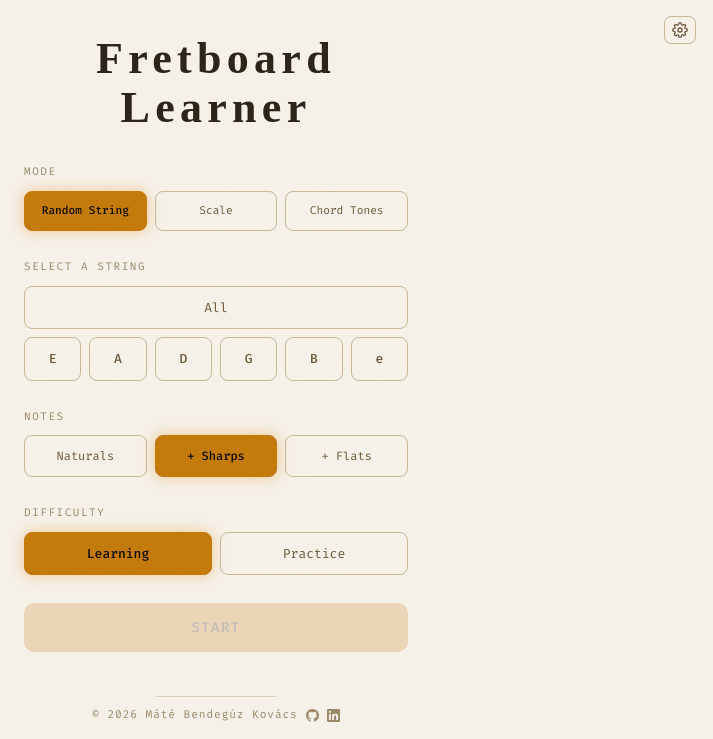
Test: GameScreen — mic permission denied (NotAllowedError) › shows MicPermissionPrompt with the denied message
Click the button "A": [118, 359] box [89,337,147,381]
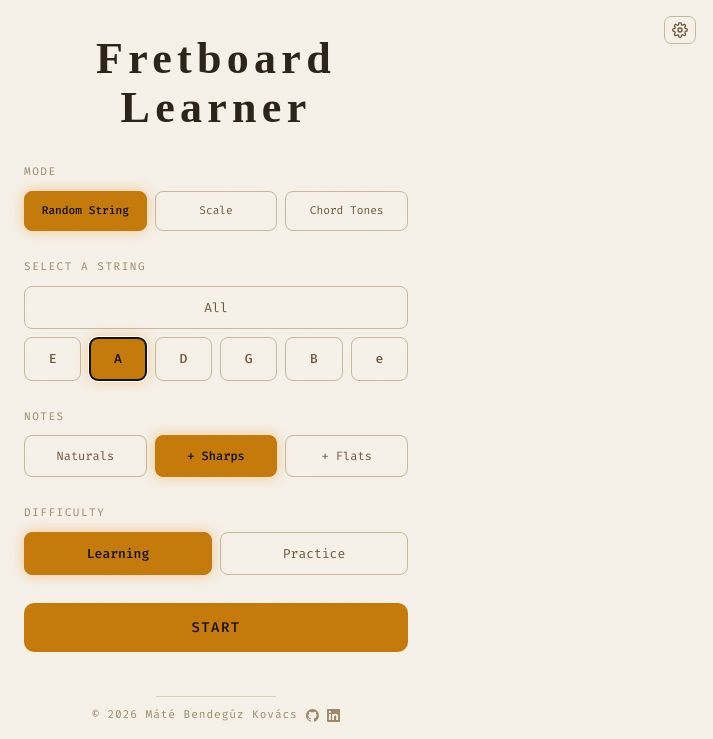
Click the button "Start": [216, 628] box [24,603,408,652]
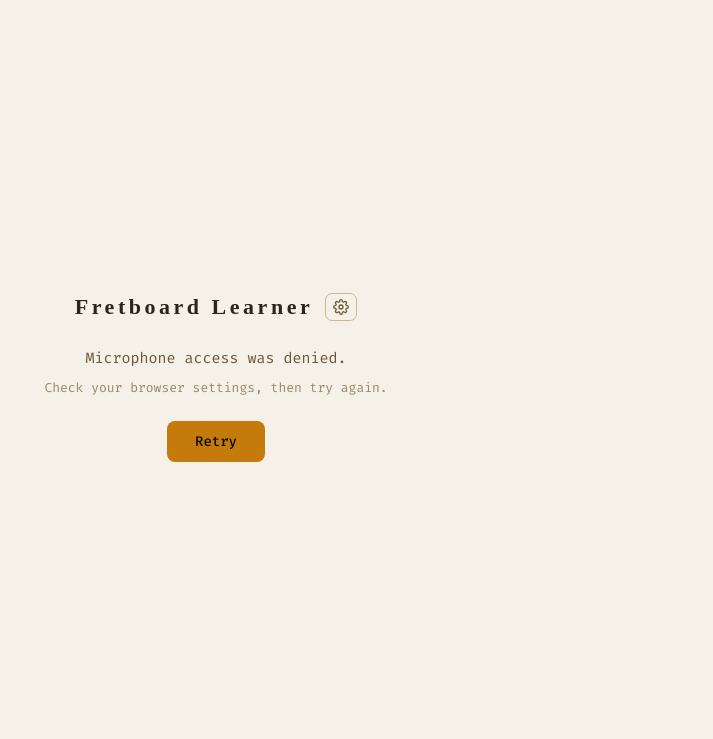
Expected: the text "Microphone access was denied." is shown, [86,348,346,368]
Expected: the button "Retry" is shown, [167,421,265,462]
